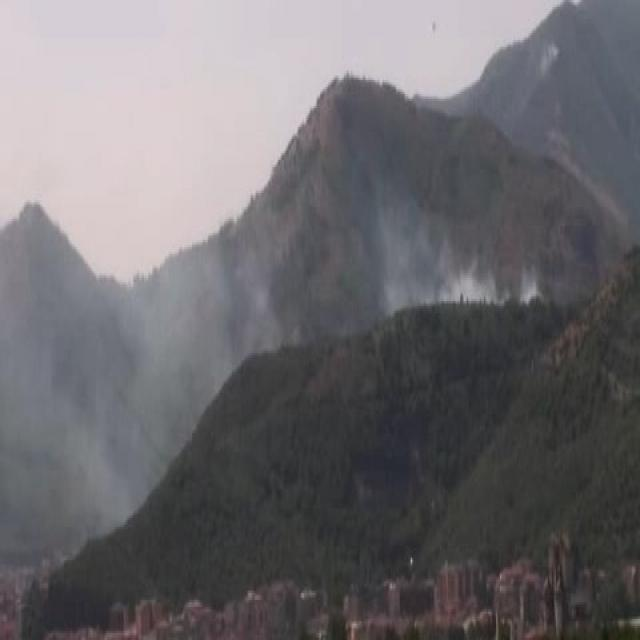smoke: (127, 264, 269, 394), (382, 256, 538, 310)
